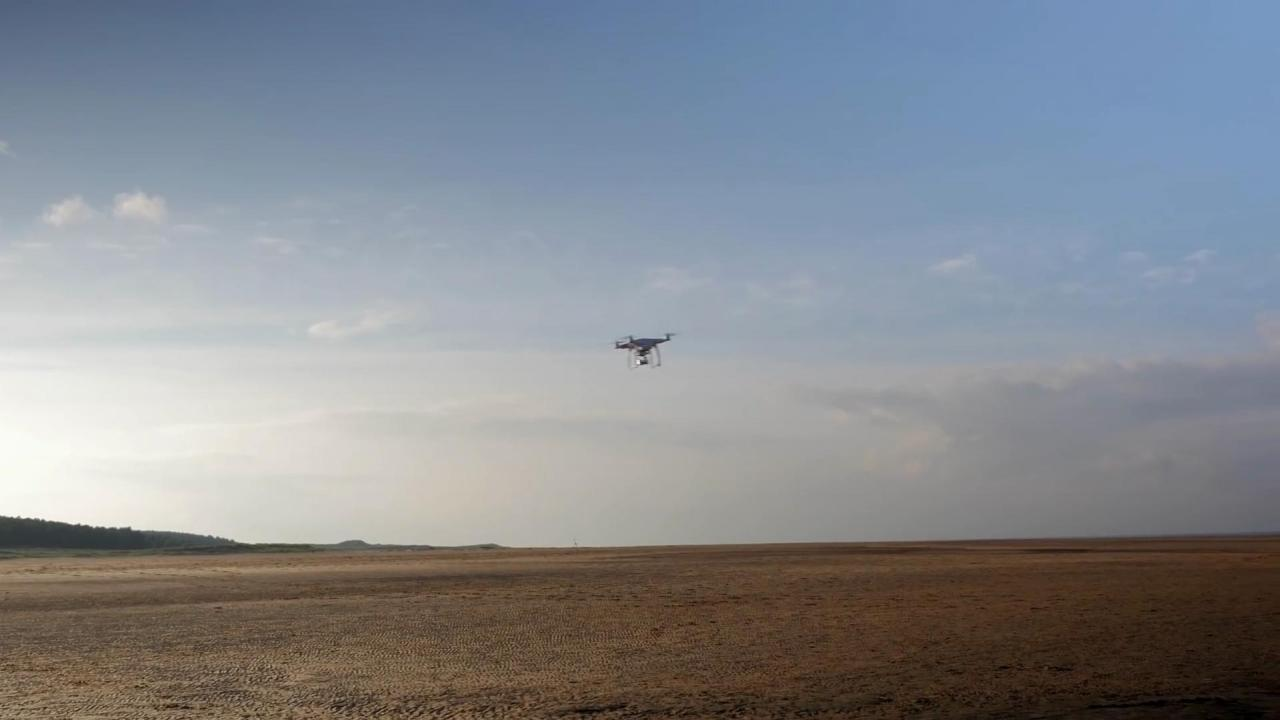Drone: (604, 325, 684, 375)
